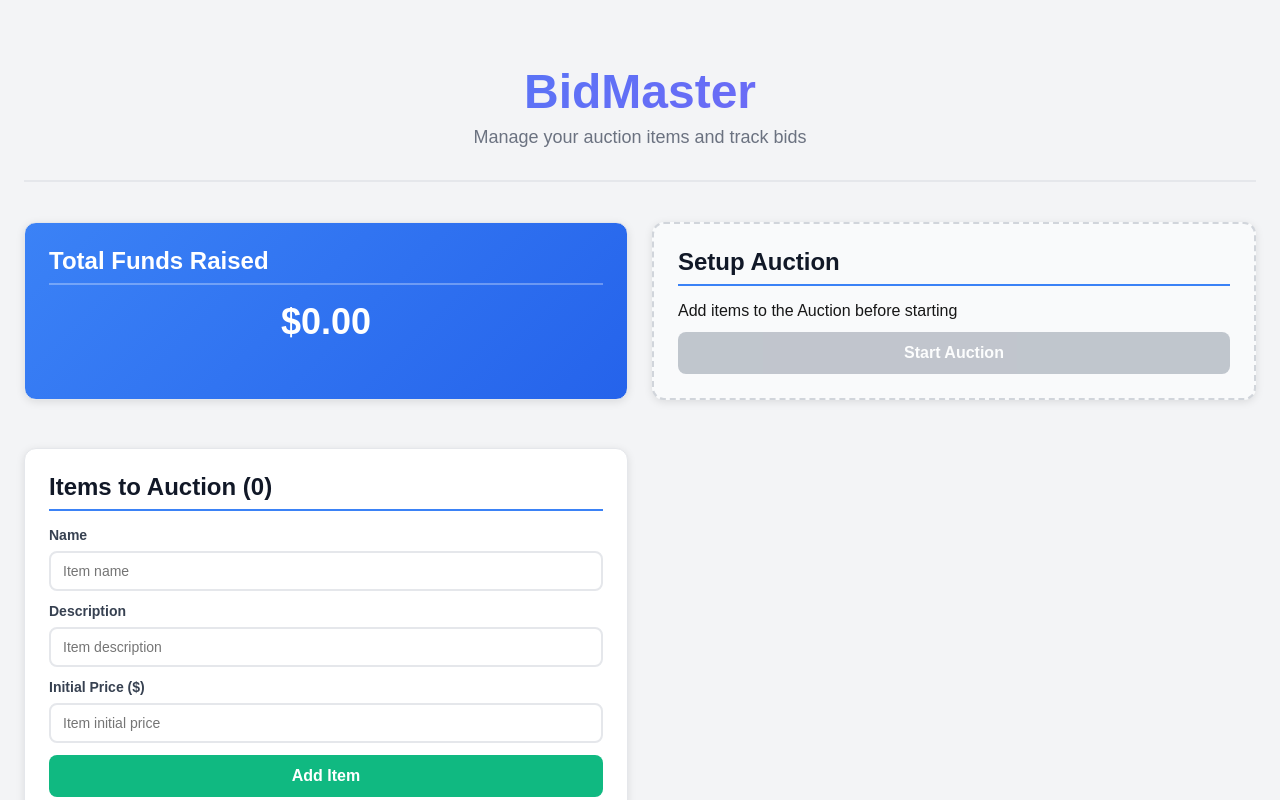
Test: Boundary and Controller Tests
Expected: the button "Add Item" is shown, [49,755,603,797]
In the field with test id "new-item-name": (326, 571) [49,551,603,591], type "Antique Vase"
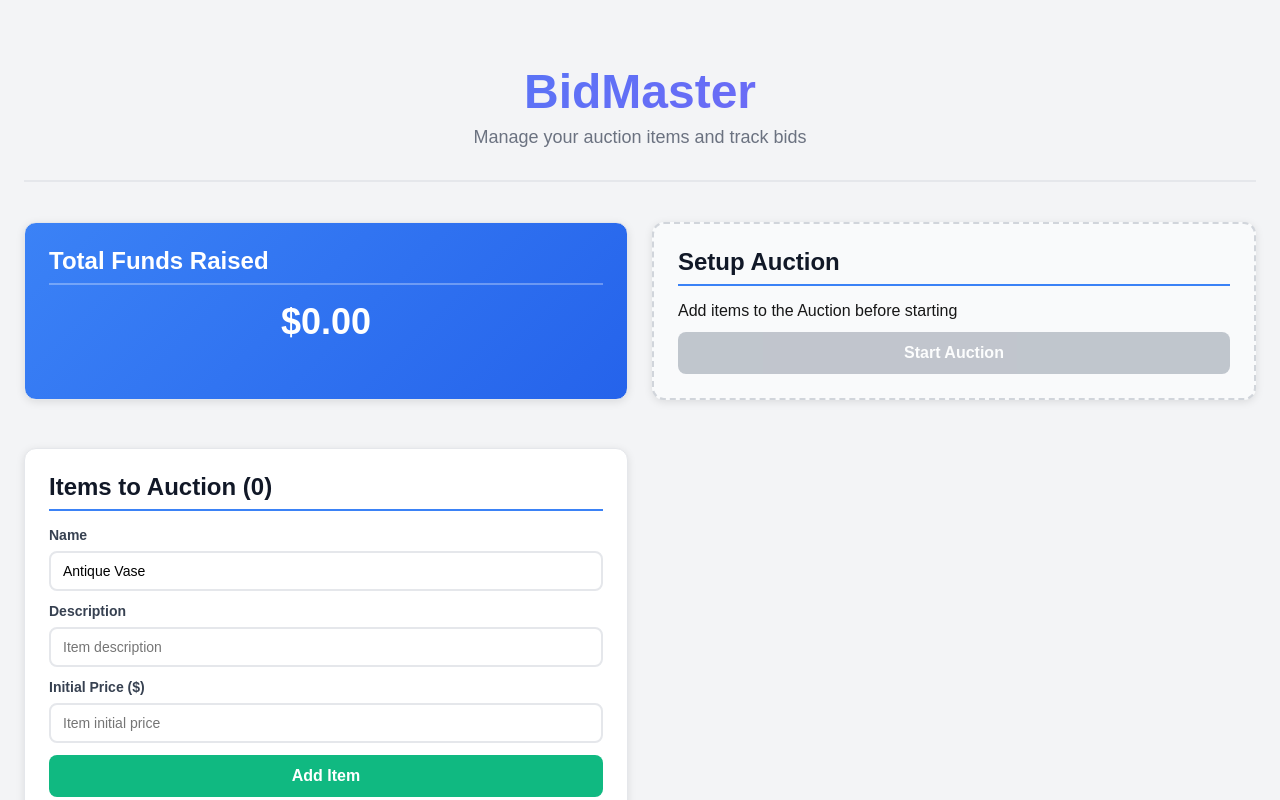
In the field with test id "new-item-description": (326, 647) [49,627,603,667], type "Ming Dynasty"
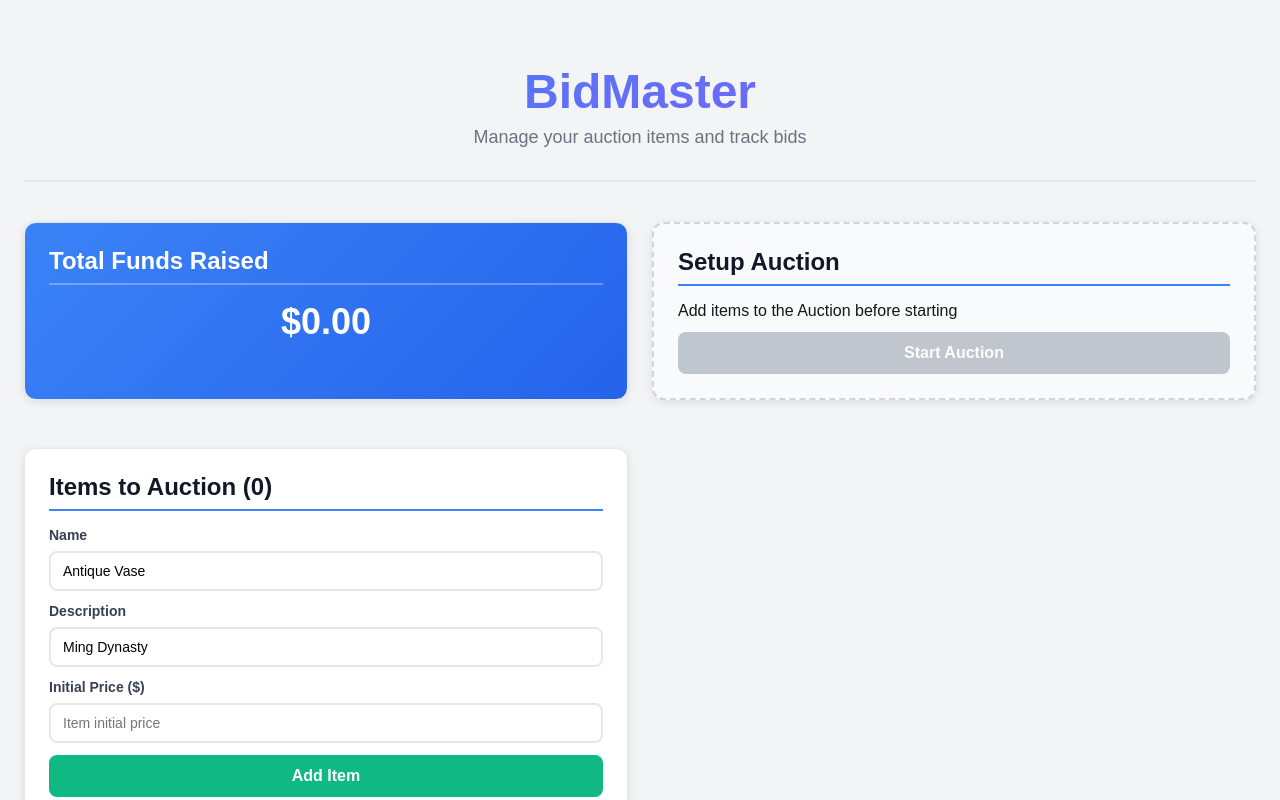
In the number field with test id "new-item-initial-price": (326, 723) [49,703,603,743], type "200"
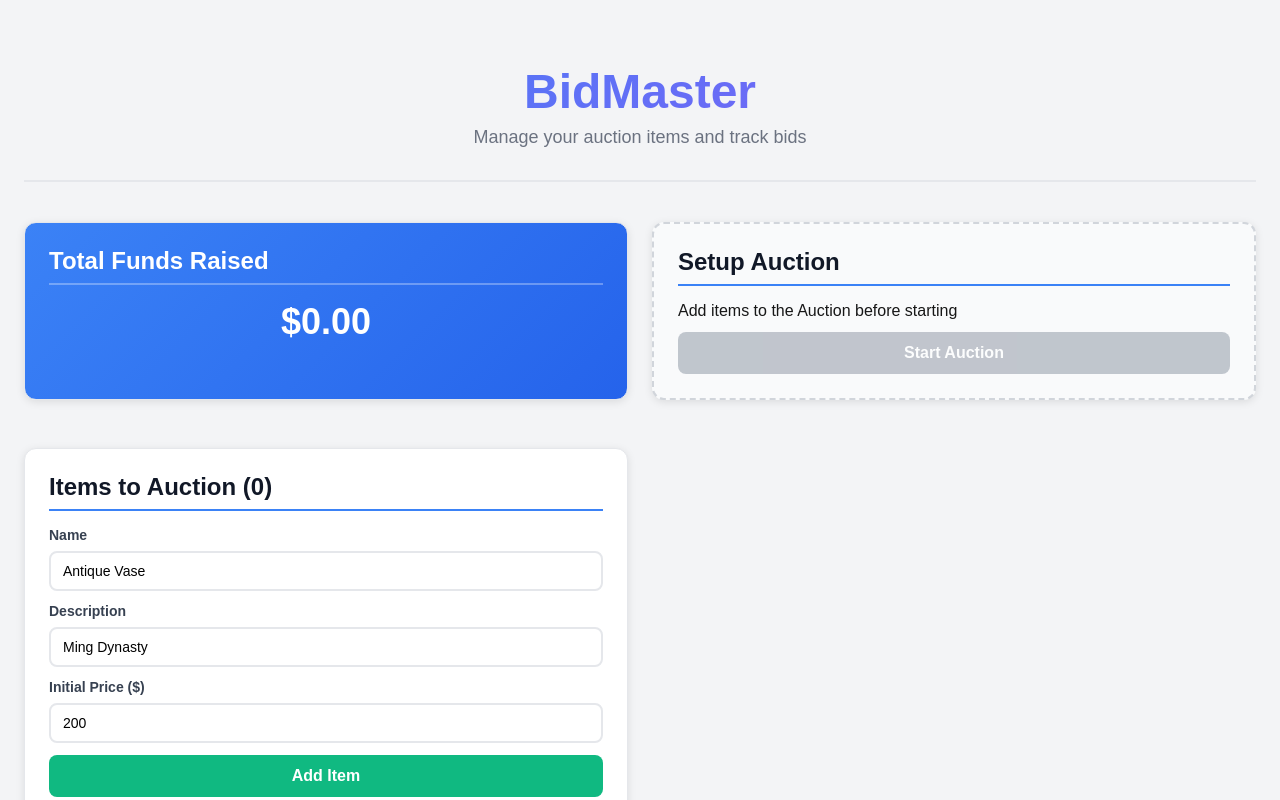
Click the button "Add Item": (326, 776) [49,755,603,797]
(page scrolled)
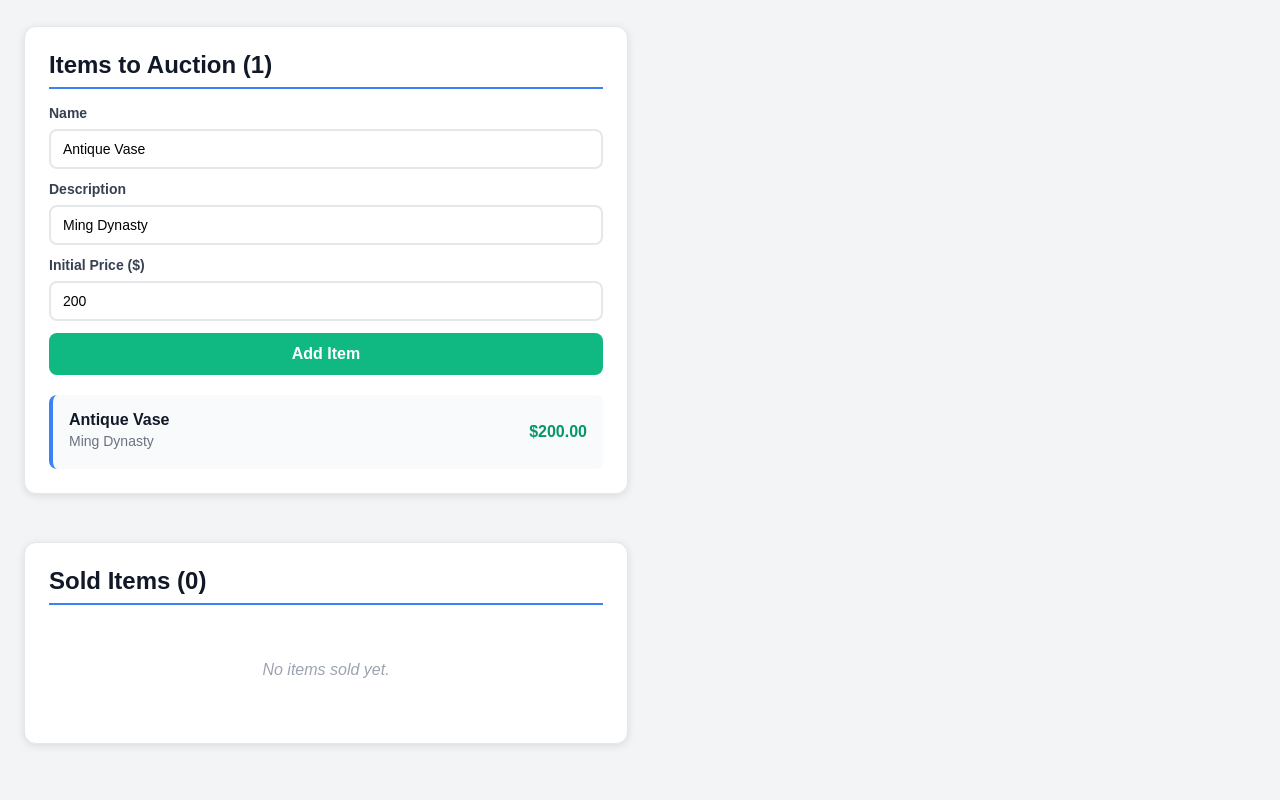
Now the text "Antique Vase" is shown, box [69,411,170,428]
Now the text "Ming Dynasty" is shown, box [69,433,154,449]
Now the text "$200.00" is shown, box [529,423,587,441]
